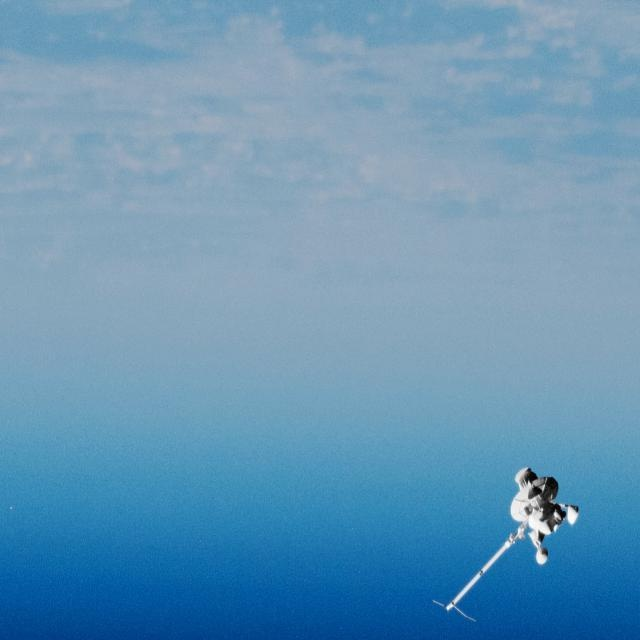satellite: (427, 455, 590, 624)
